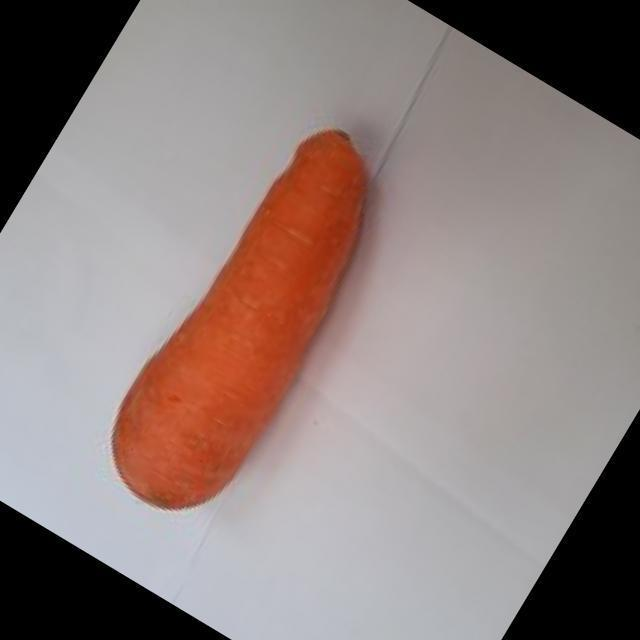Carrot: (112, 132, 368, 509)
